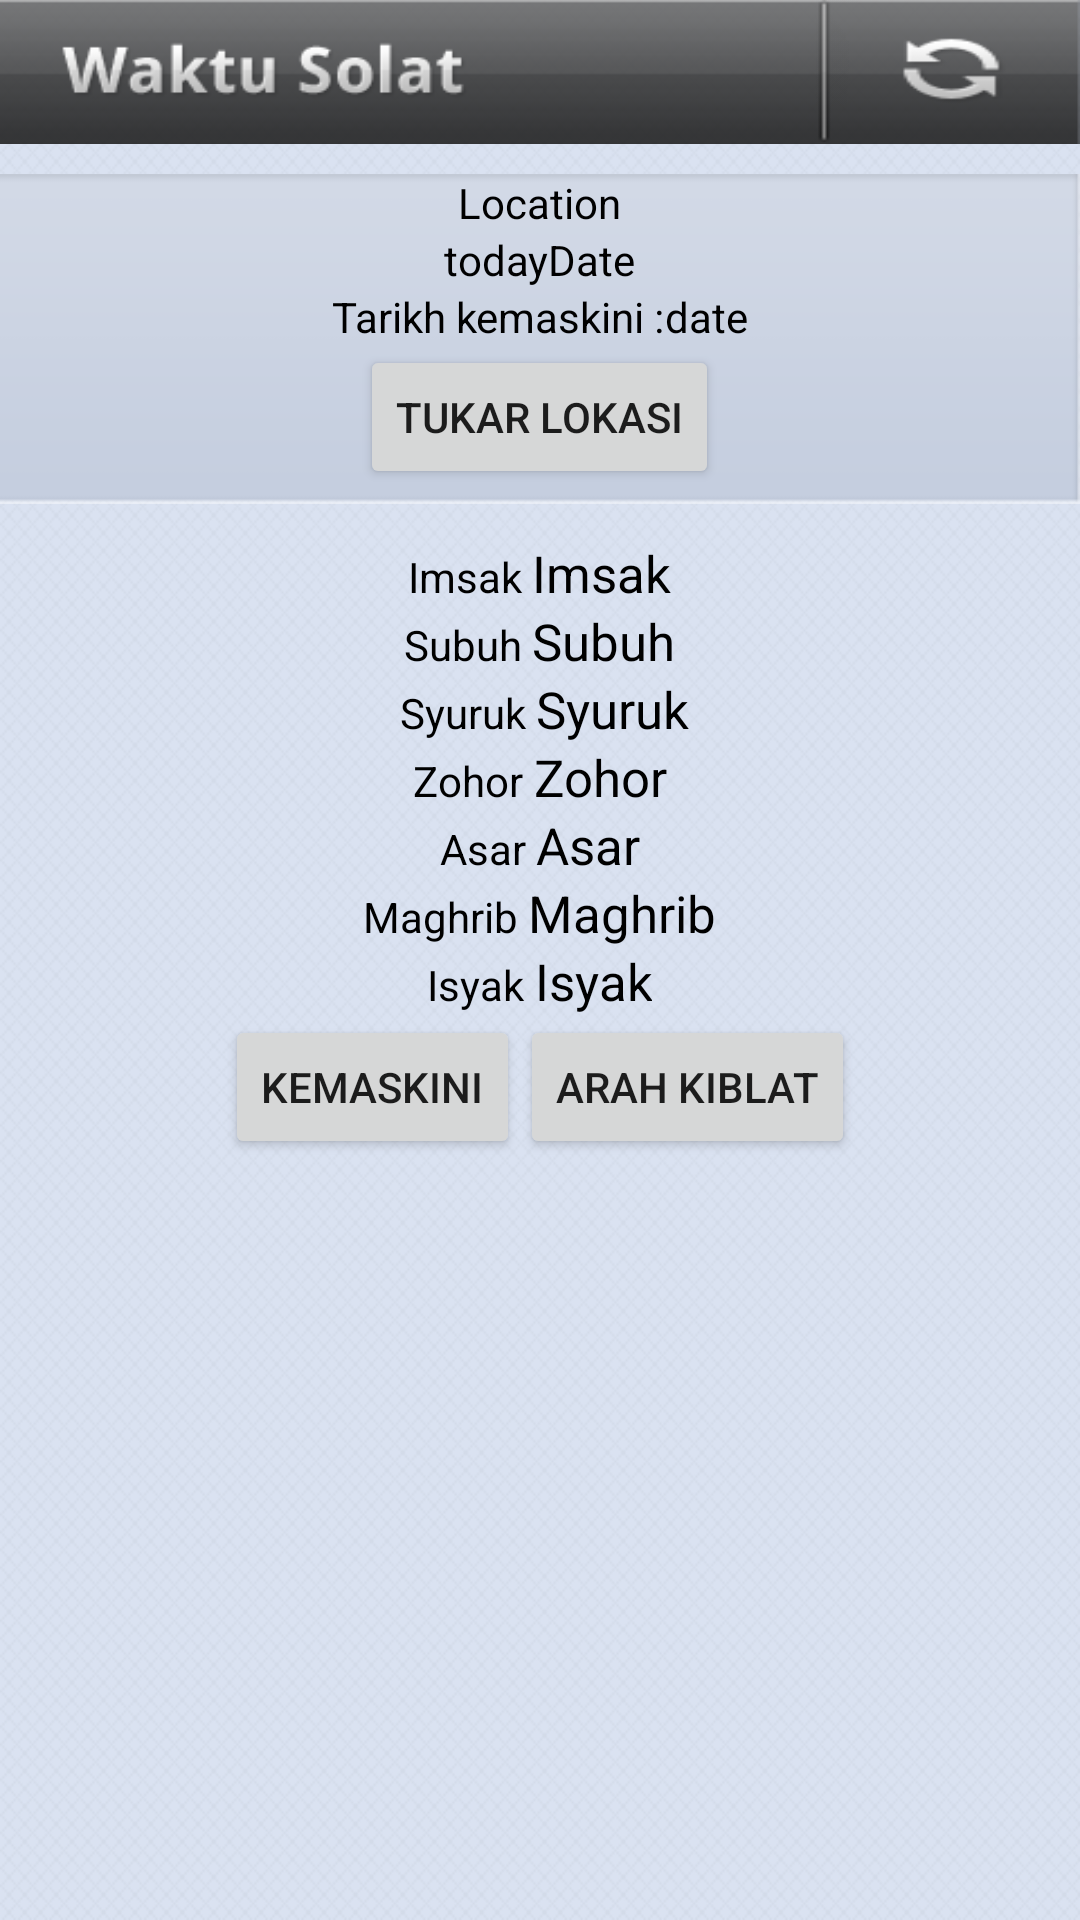

Where icons sit on this 1080 x 1920 app screen, as (x1, y1, x2, y2):
refresh: (816, 0, 1080, 144)
